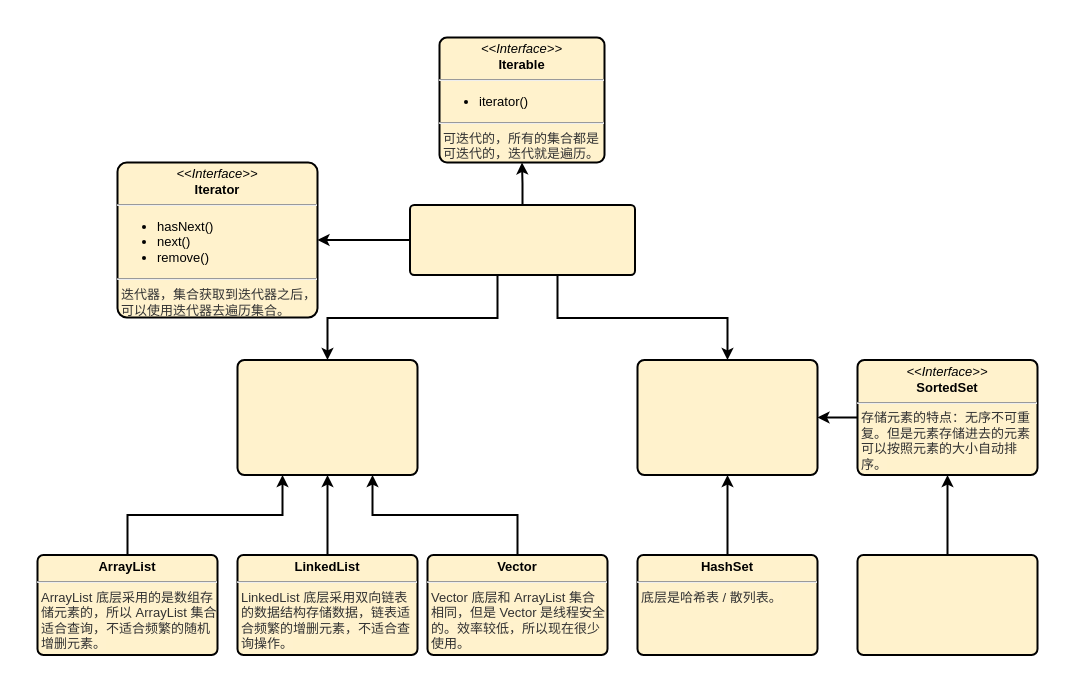
Some shapes in this 1074 by 692 pixel diagram are drawn without their labels. The box of each missing label's shape, as (x1, y1, x2, y2) in pixels:
<<Interface>> Collection 只能存储引用类型，并且是单个存储。: (408, 204, 636, 276)
<<Interface>> List 存储元素的特点：有序可重复。 存进去什么顺序，取出来的时候还是这个顺序取出。: (236, 358, 418, 476)
<<Interface>> Set 存储元素的特点：无有序不可重复， 存进去的时候是这样一个顺序，取出来的时候就不一定是这个顺序取出。: (636, 358, 818, 476)
TreeSet SortedSet 接口的唯一实现，支持自然排序和定制排序。: (856, 554, 1038, 656)
